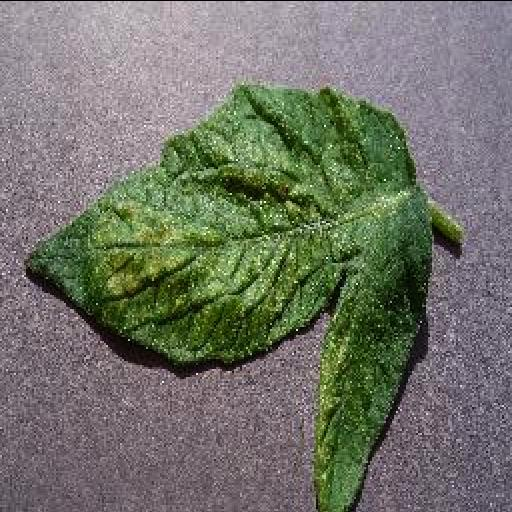disease_tomato: (26, 84, 428, 512)
